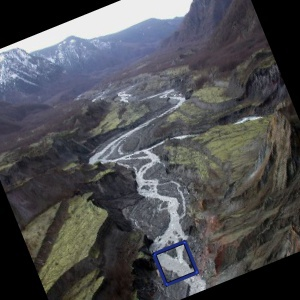square: (148, 238, 200, 290)
